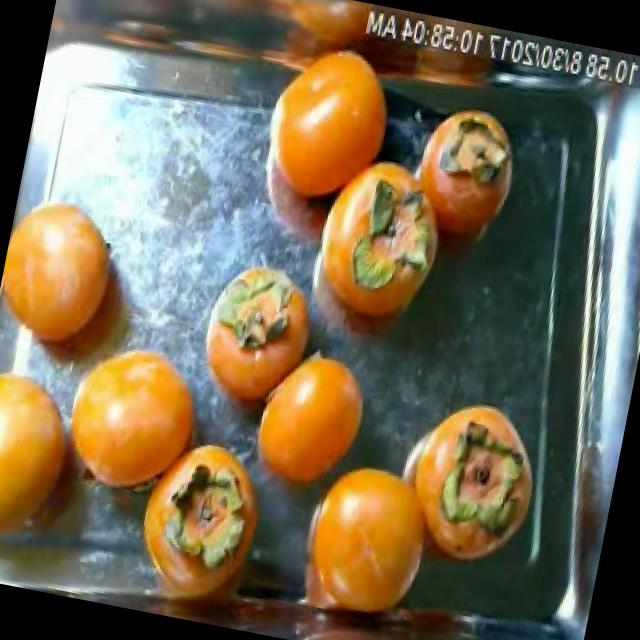Fruit: (43, 314, 230, 528), (285, 434, 467, 640), (0, 176, 155, 402), (240, 328, 394, 522), (392, 378, 544, 548)
